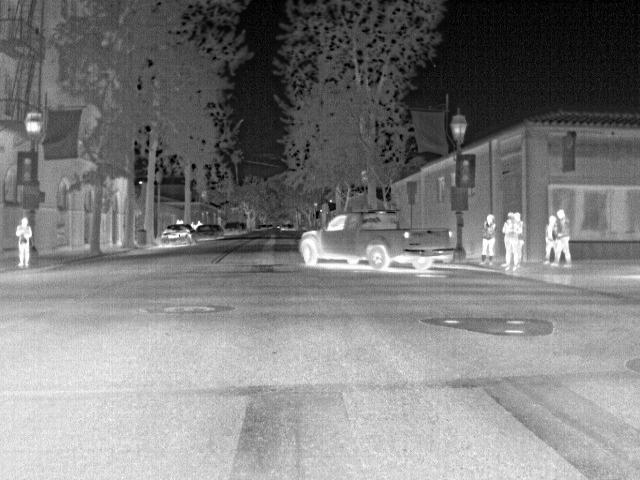car: (298, 208, 457, 274), (156, 222, 194, 247), (194, 222, 223, 243), (222, 220, 243, 236)
person: (12, 215, 34, 269), (476, 212, 496, 264), (557, 207, 574, 266), (499, 209, 512, 270), (512, 210, 525, 268), (543, 214, 558, 263)
